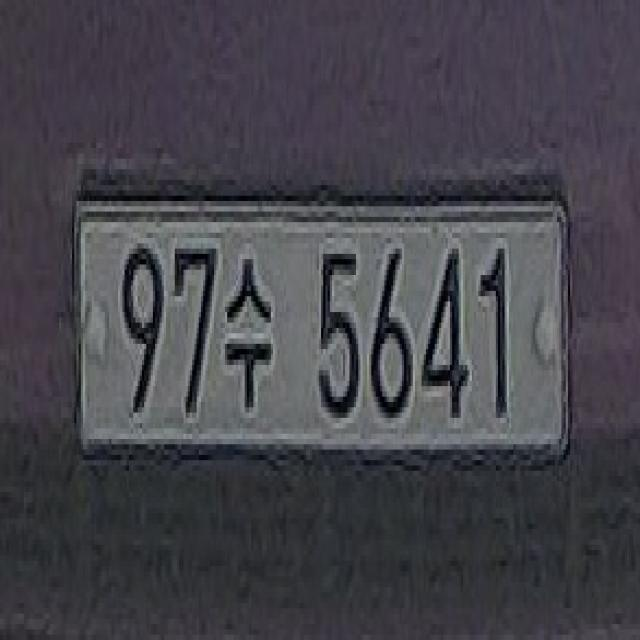1: (476, 238, 520, 432)
4: (420, 234, 473, 431)
5: (314, 235, 364, 427)
6: (366, 233, 417, 428)
7: (170, 238, 220, 428)
9: (116, 234, 166, 422)
license_plate: (73, 201, 567, 463)
su: (224, 242, 275, 426)
